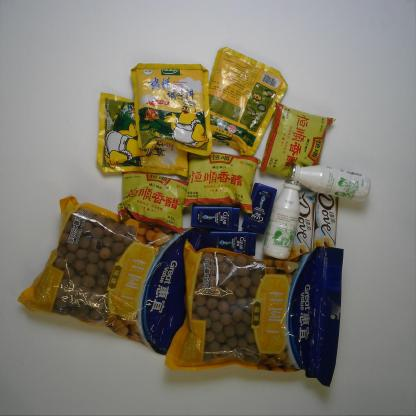Chocolate: (309, 184, 341, 263), (291, 178, 317, 258)
Dried Food: (11, 193, 190, 358), (164, 238, 347, 388)
Milk: (290, 163, 378, 202), (262, 177, 302, 262)
Personal Hygiene: (241, 182, 282, 236), (190, 204, 246, 233), (205, 229, 257, 256)
Seasoner: (200, 45, 291, 161), (93, 91, 194, 176), (132, 60, 218, 159), (256, 98, 338, 185), (183, 145, 262, 216), (118, 165, 196, 231)
